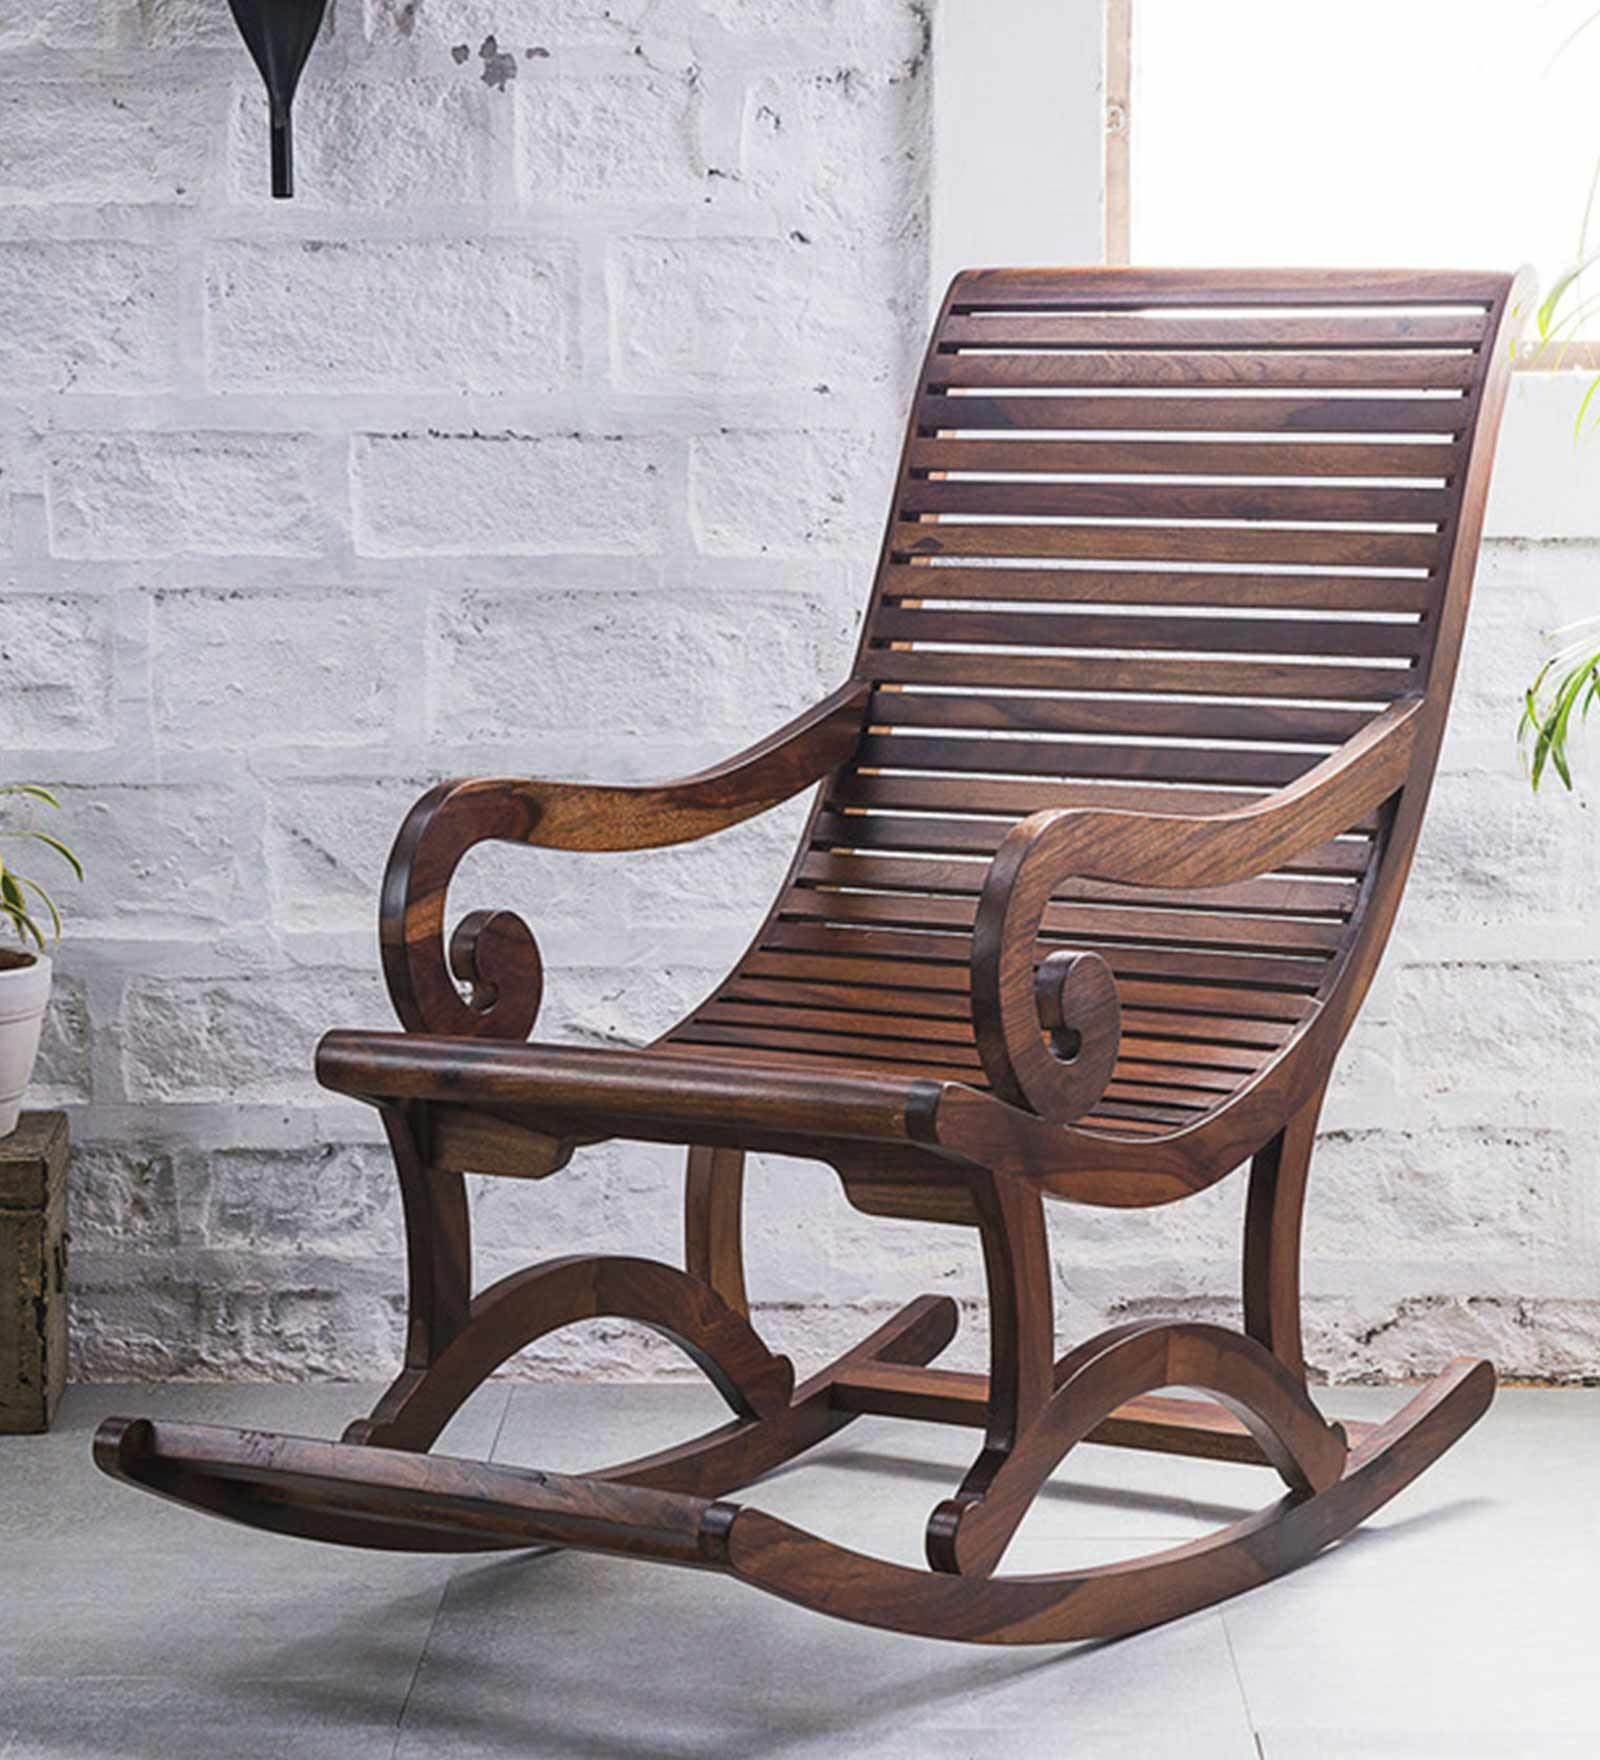Wellesley Rocking Chair in Provincial Teak Finish by Amberville: (213, 149, 1480, 1723)
